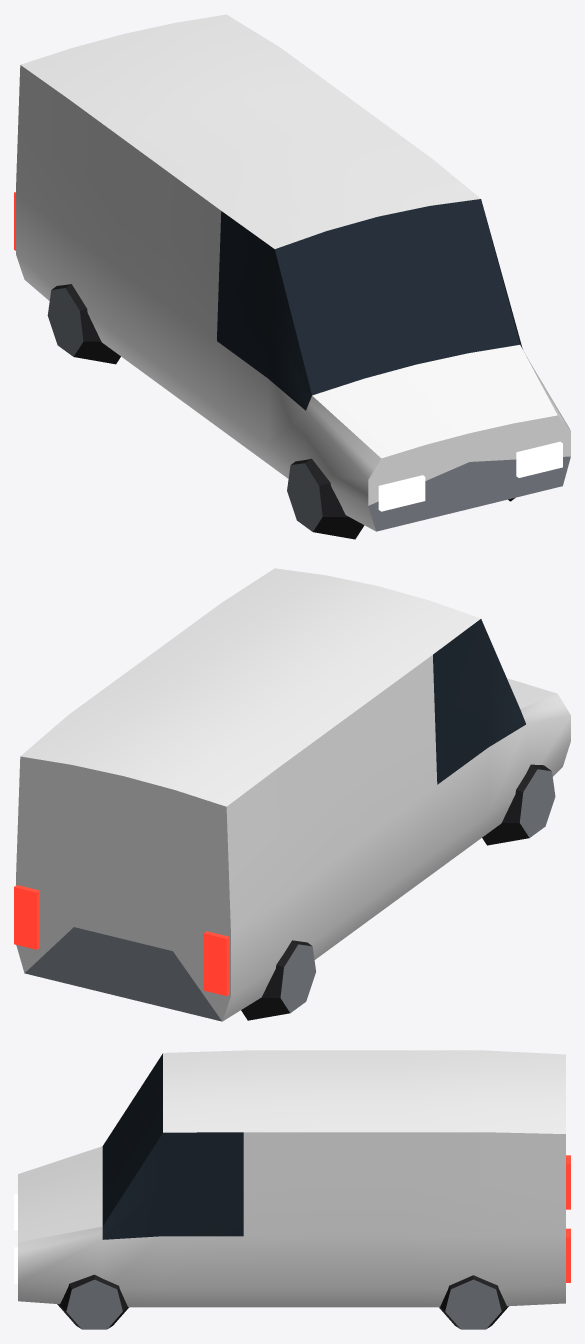
File: van.glb
3 views of the same model, one above another, from view 1: azimuth 30°, elevation 25°; view 2: azimuth 150°, elevation 25°; view 3: azimuth 270°, elevation 25° (orthographic). The views are drawn at different scales.
Visible parts, largest first — view 1: body; view 2: body; view 3: body.
Boxes of the visible parts, <box> form: body: <box>14,14,570,539</box>; body: <box>14,568,570,1021</box>; body: <box>14,1050,570,1329</box>.
Size of the model in its own units: 2.64 by 2.88 by 6.91.
